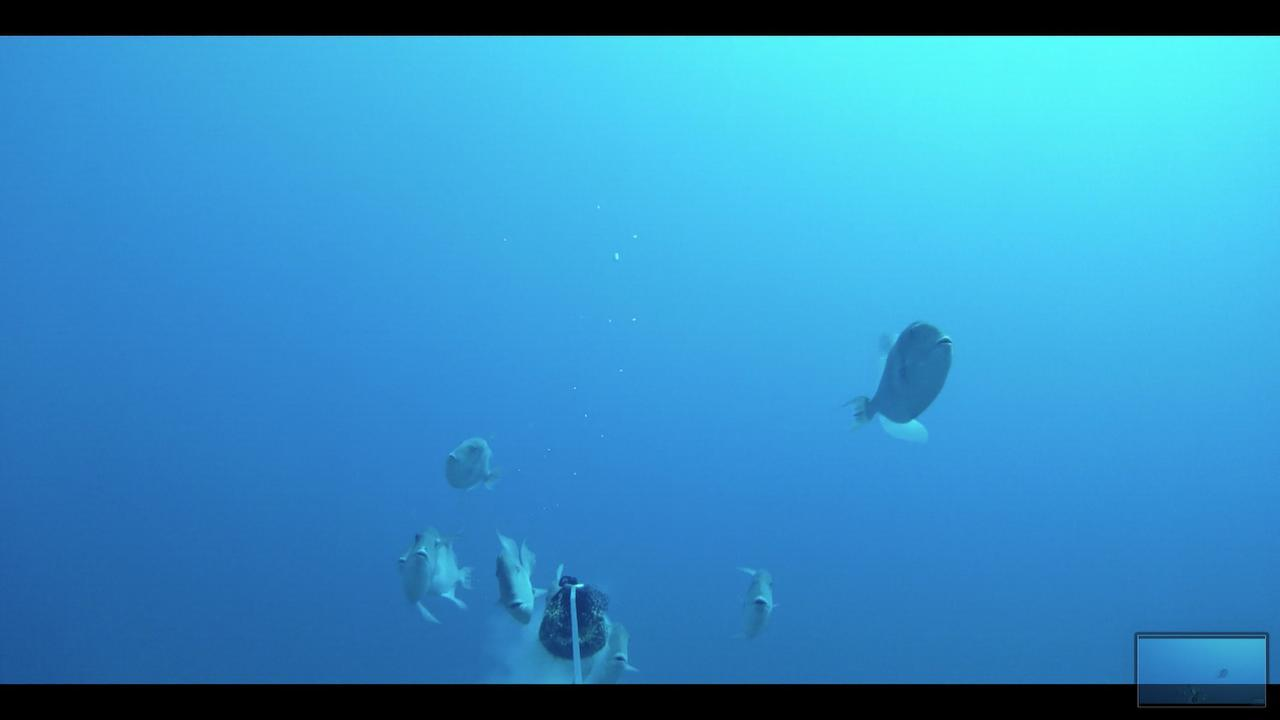balistes: (836, 318, 962, 446), (477, 521, 542, 637), (382, 517, 442, 621), (725, 551, 786, 652), (431, 428, 506, 491), (581, 608, 642, 685)
